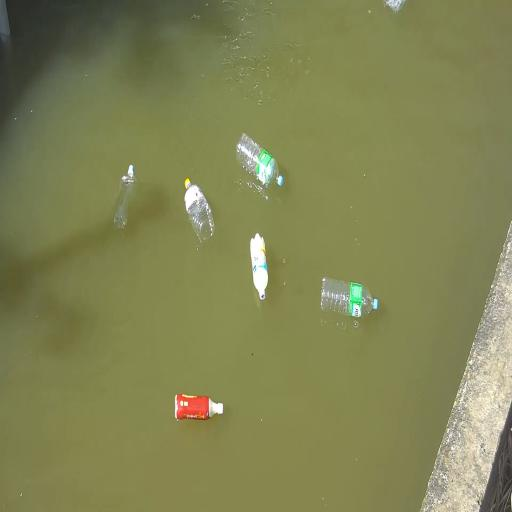plastic: (237, 133, 283, 187), (321, 277, 378, 317), (185, 179, 214, 241), (114, 165, 136, 228), (175, 394, 223, 420), (250, 233, 268, 300), (386, 0, 406, 12)
